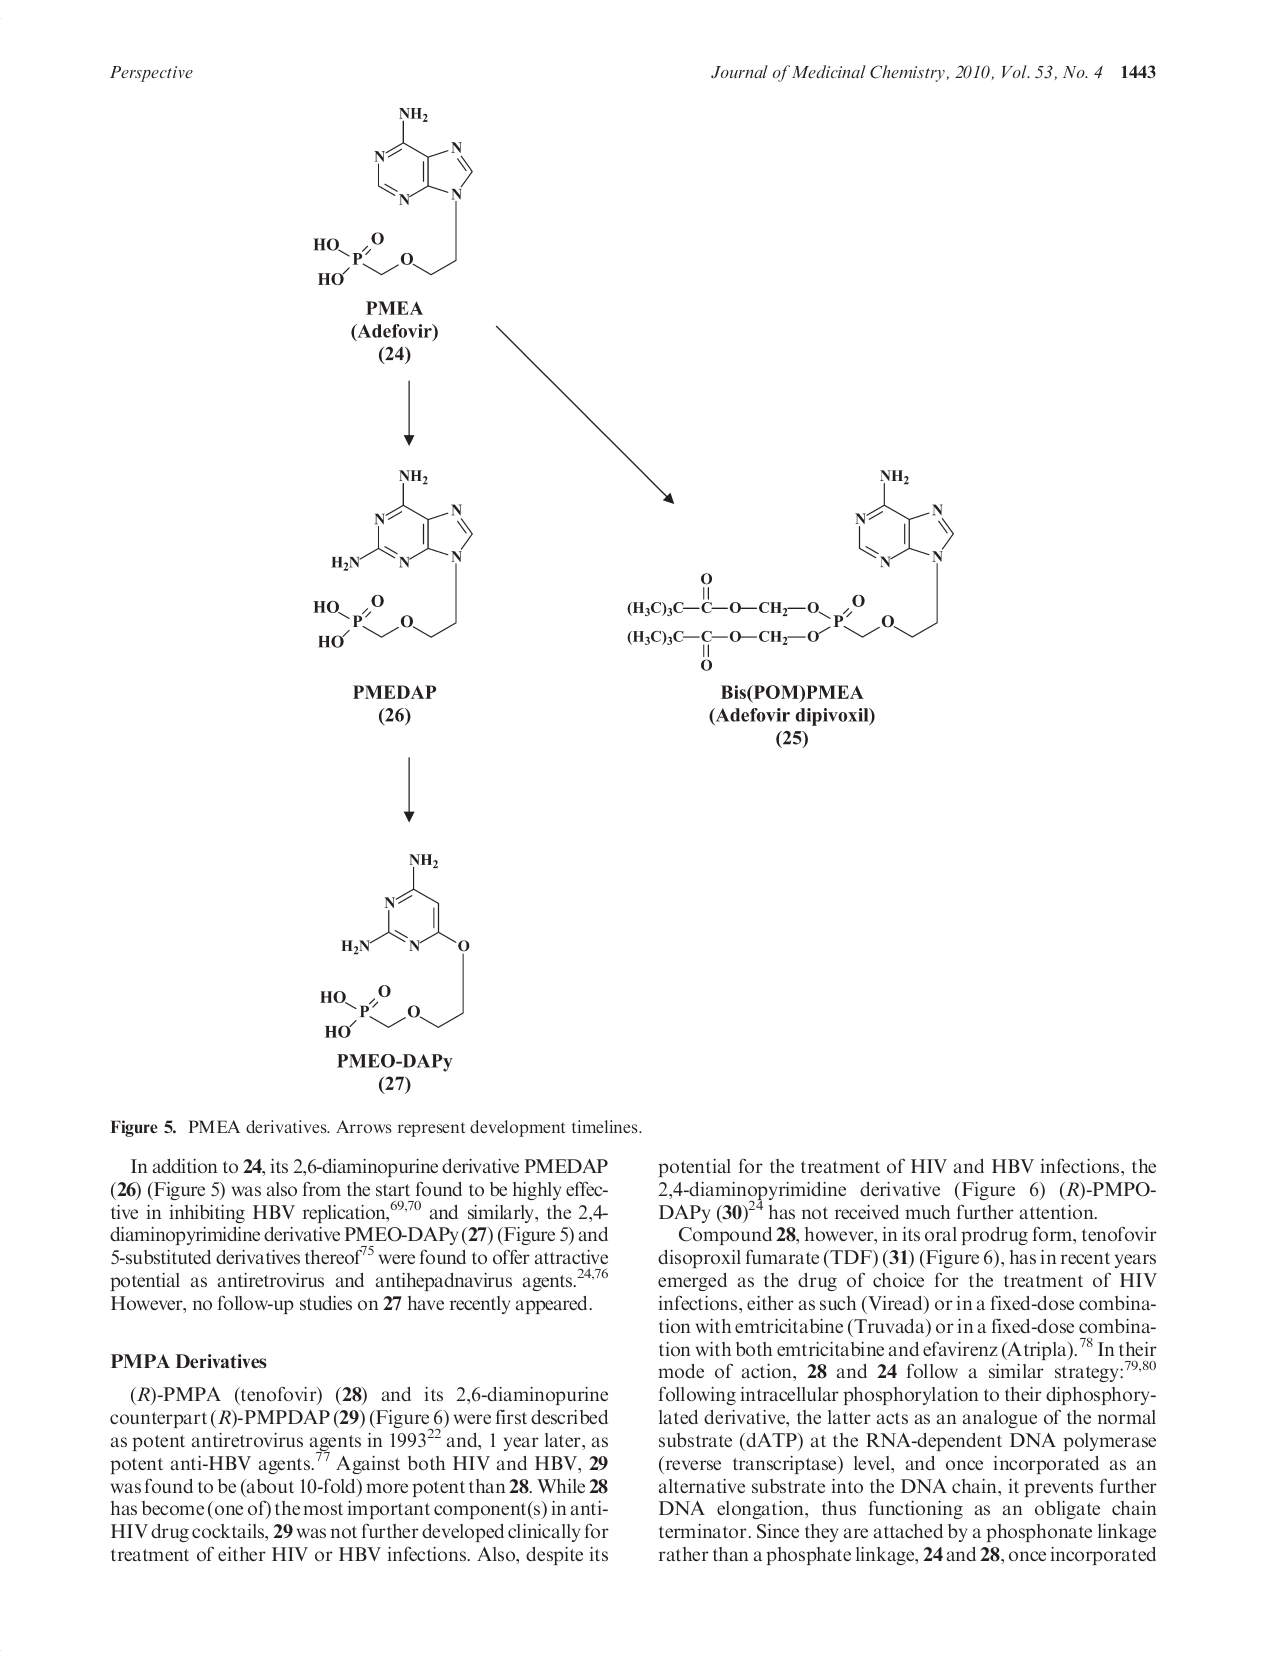exist_molecular: (626, 467, 955, 673), (313, 467, 473, 654), (311, 105, 475, 289), (319, 850, 469, 1043)
